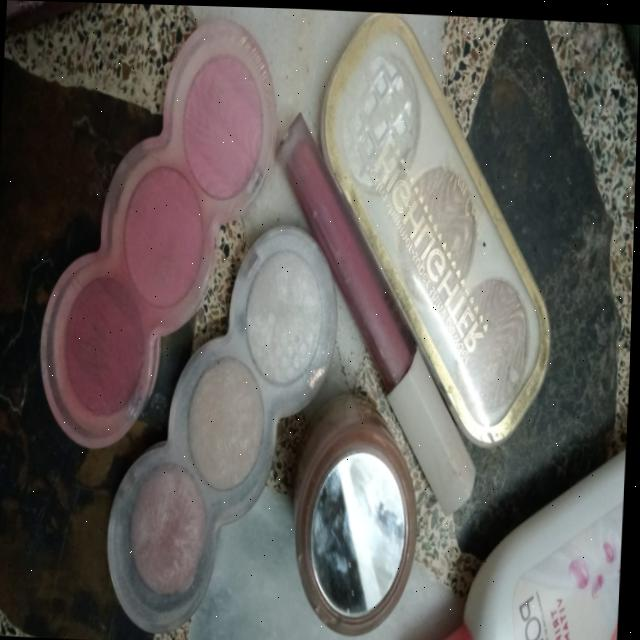blush: (27, 4, 294, 460)
highlighter: (90, 227, 340, 640)
lip gloss: (276, 112, 477, 511)
